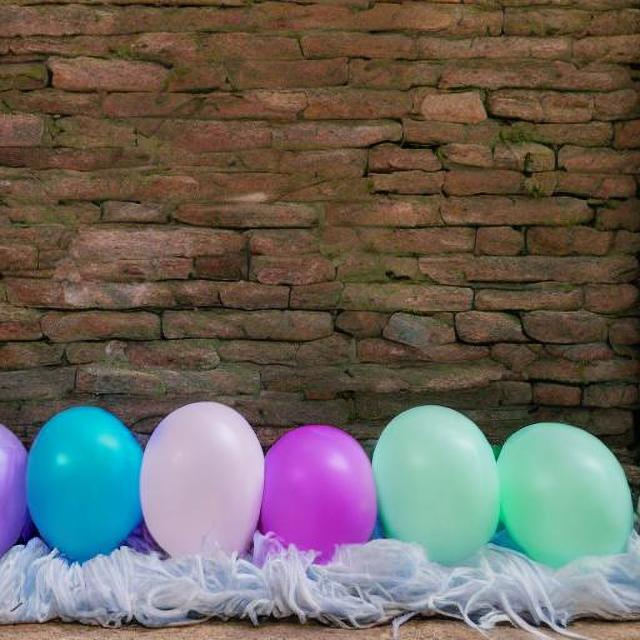balloon: (1, 387, 638, 593)
